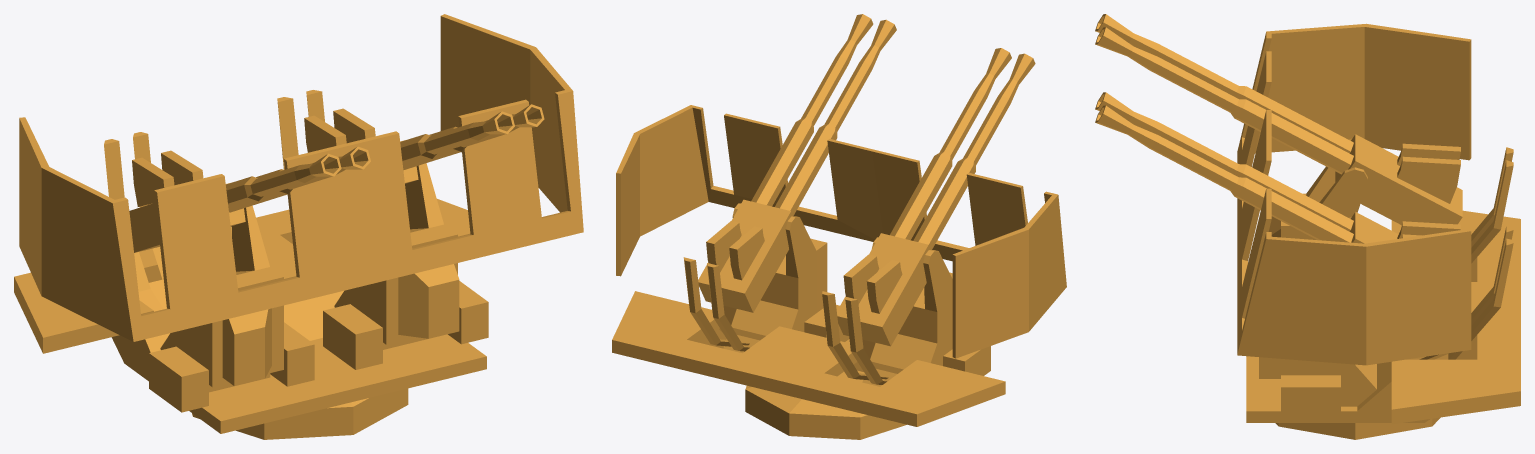
The model's file is antiaircraft-bofors.fbx.
3 renders of one model, left to right at view 1: azimuth 30°, elevation 25°; view 2: azimuth 150°, elevation 25°; view 3: azimuth 270°, elevation 25°, orthographic. The views are drawn at different scales.
Visible parts, largest first — view 1: bofors-base, bofors-guns; view 2: bofors-base, bofors-guns; view 3: bofors-base, bofors-guns.
Boxes of the visible parts, x1,y1,x2,y2 form: bofors-base: (14,14,583,439); bofors-guns: (129,104,544,252); bofors-base: (612,105,1066,439); bofors-guns: (698,14,1035,346); bofors-base: (1237,23,1520,439); bofors-guns: (1095,14,1462,243).
Size of the model in its own units: 4.35 by 3.04 by 3.51.
